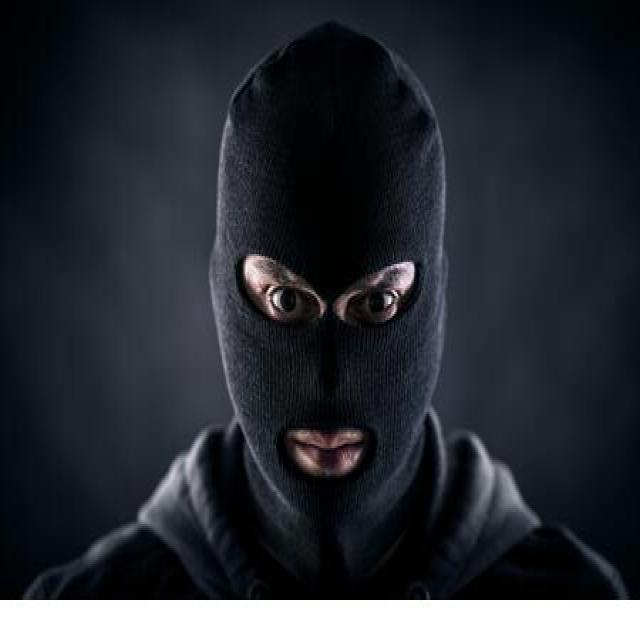6_pasamontana: (207, 20, 449, 575)
